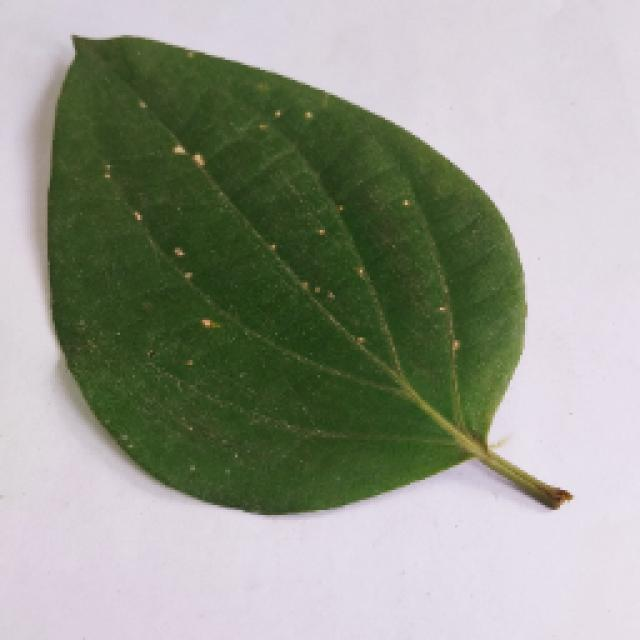pollu-disease: (45, 33, 557, 515)
